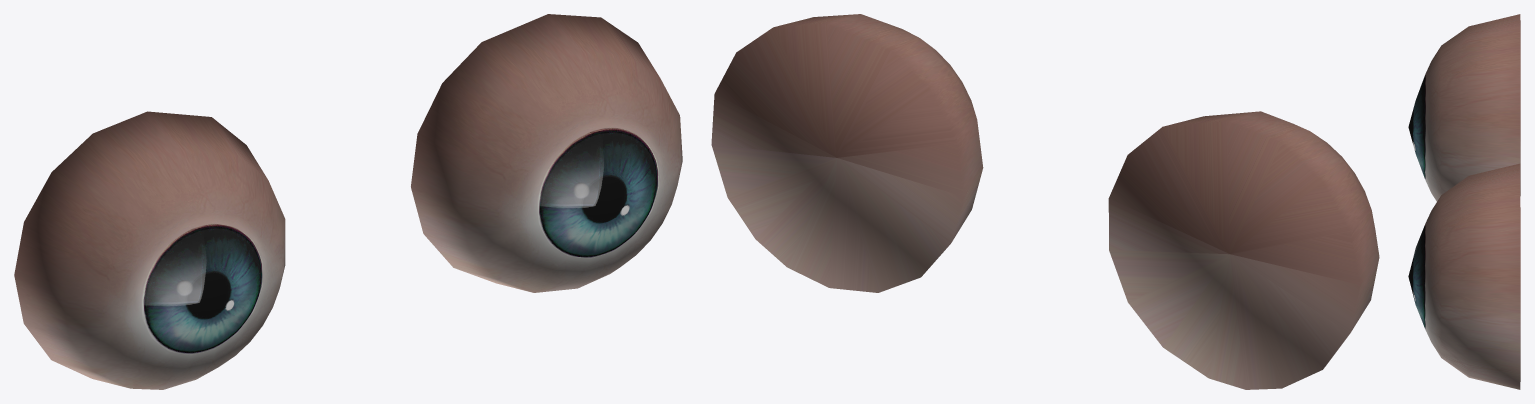
The model's file is femaleeye2.glb.
The picture shows the model from 3 angles, left to right: view 1: azimuth 30°, elevation 25°; view 2: azimuth 150°, elevation 25°; view 3: azimuth 270°, elevation 25°; orthographic projection. The views are drawn at different scales.
Parts seen in each view (by area): view 1: EyeRight, EyeLeft; view 2: EyeLeft, EyeRight; view 3: EyeLeft, EyeRight.
Boxes of the visible parts, left/top/right/bottom form: EyeRight: left=14, top=111, right=285, bottom=389; EyeLeft: left=411, top=14, right=682, bottom=292; EyeLeft: left=711, top=14, right=983, bottom=292; EyeRight: left=1108, top=111, right=1379, bottom=389; EyeLeft: left=1408, top=163, right=1520, bottom=389; EyeRight: left=1408, top=14, right=1520, bottom=201.
Size of the model in its own units: 0.1084 by 0.0422 by 0.021.
1 material, 1 textured.
